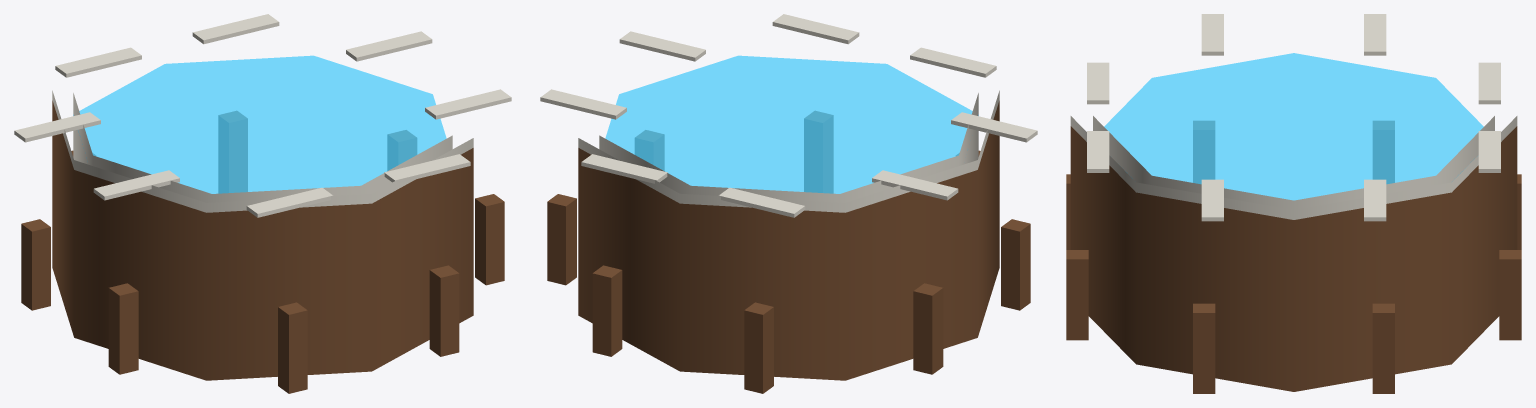
File: hot_tub.glb
3 views of the same model, side by side, from view 1: azimuth 30°, elevation 25°; view 2: azimuth 150°, elevation 25°; view 3: azimuth 270°, elevation 25° (orthographic). The views are drawn at different scales.
Visible parts, largest first — view 1: hot_tub; view 2: hot_tub; view 3: hot_tub.
Boxes of the visible parts, bbox=[...] form: hot_tub: bbox=[14, 14, 511, 393]; hot_tub: bbox=[540, 14, 1037, 393]; hot_tub: bbox=[1066, 14, 1521, 393].
Bounding box in the file's own units: 2.16 × 0.9 × 2.04.
